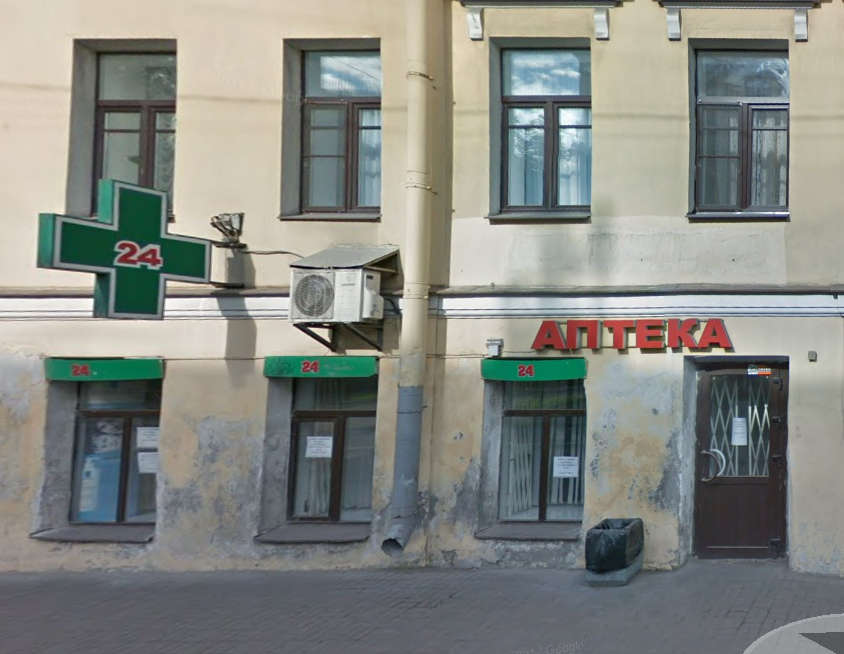cantilever: (28, 163, 256, 341)
door: (696, 364, 789, 559)
signboard: (529, 312, 736, 352)
window: (689, 41, 788, 219), (495, 42, 591, 211), (67, 371, 170, 523), (491, 371, 590, 523), (293, 48, 383, 212), (287, 367, 377, 528), (91, 52, 169, 192)
